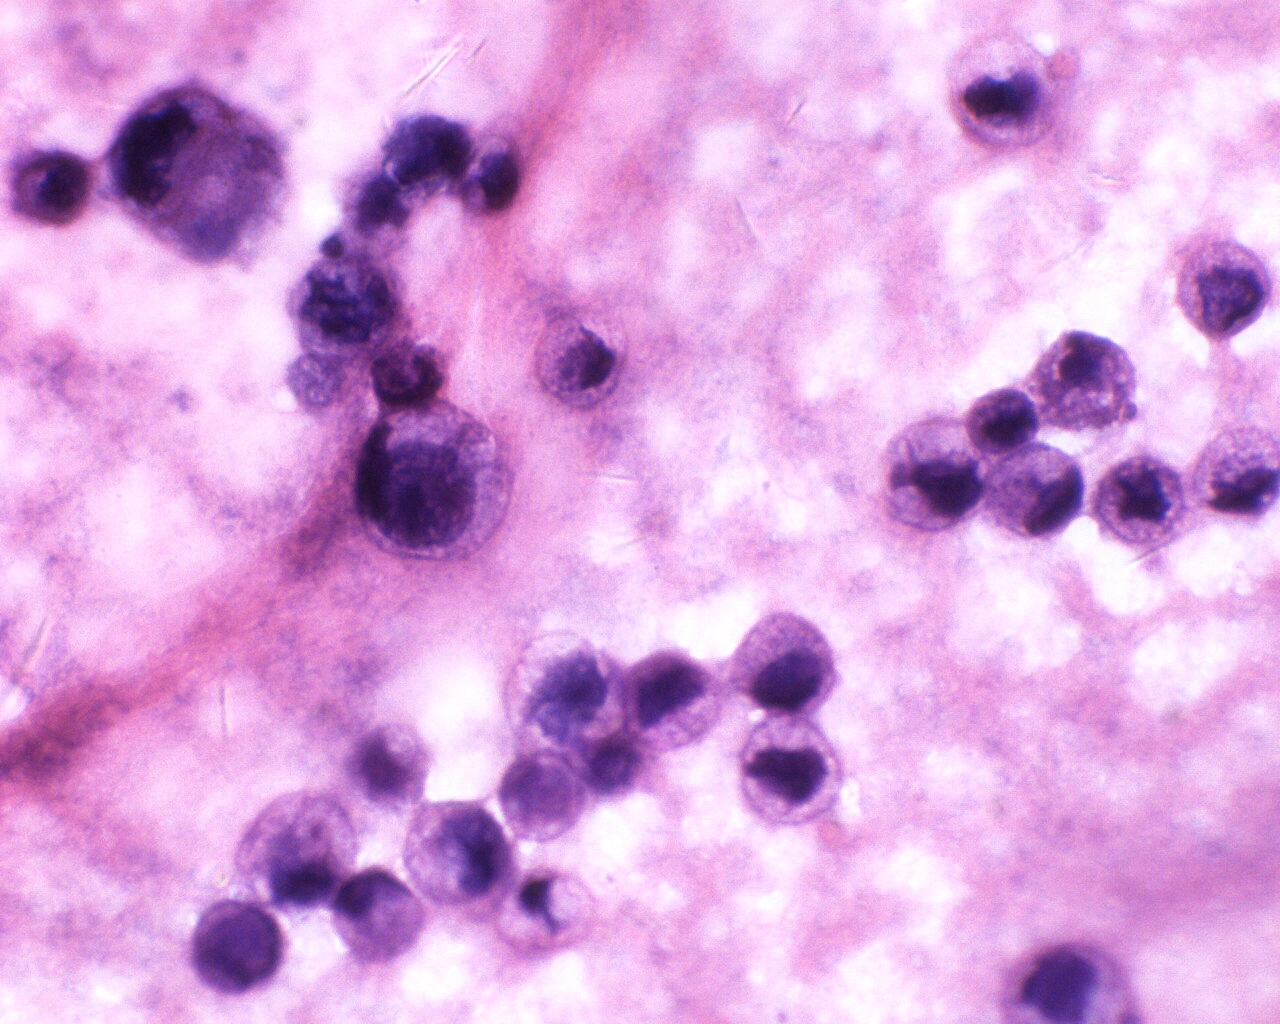ab: (353, 401, 519, 562), (402, 796, 516, 912), (734, 716, 852, 827), (616, 647, 727, 762), (883, 415, 987, 530), (184, 897, 293, 998), (1178, 234, 1275, 347), (1097, 447, 1189, 549), (11, 144, 92, 235), (963, 382, 1041, 458)
histo: (328, 866, 429, 969), (985, 442, 1086, 541)
meso: (734, 605, 837, 716)
